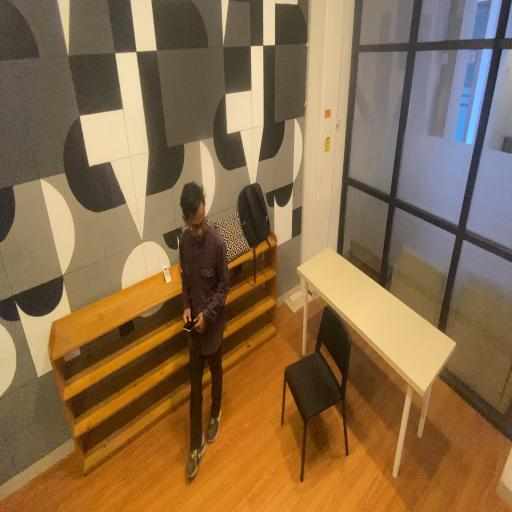bantal: (215, 210, 252, 264)
hp: (183, 316, 196, 335)
kursi: (280, 306, 354, 480)
lemari: (48, 291, 180, 480)
remote AC: (162, 260, 172, 287)
tas ransel: (239, 178, 270, 248)
